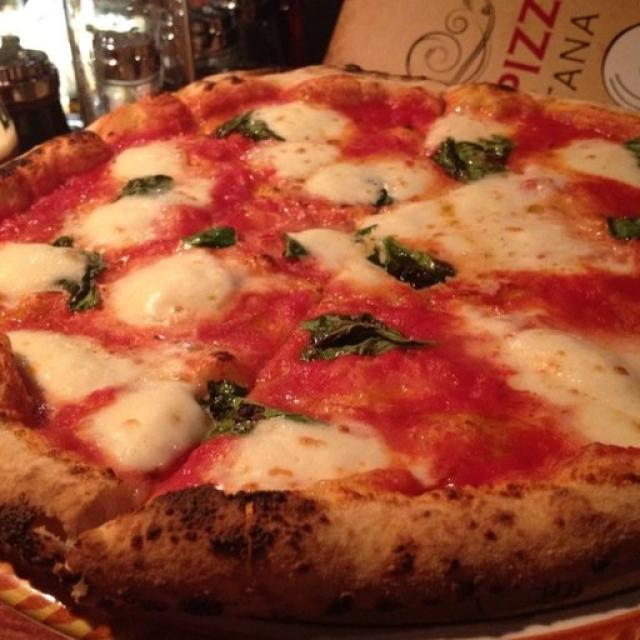Basil: (304, 310, 426, 363), (199, 381, 310, 426), (436, 139, 508, 175), (218, 110, 274, 146), (79, 250, 102, 314), (186, 224, 239, 250), (124, 173, 170, 200), (608, 211, 640, 242)
Cheese: (503, 332, 640, 454), (390, 198, 588, 264), (78, 376, 188, 460), (254, 422, 378, 494), (115, 264, 242, 326), (13, 330, 136, 390), (264, 150, 415, 197), (0, 240, 74, 294), (83, 205, 166, 249), (268, 109, 350, 144), (322, 232, 370, 286), (566, 142, 630, 180), (432, 109, 498, 135), (120, 153, 195, 167)
Pizza: (0, 65, 640, 619)
